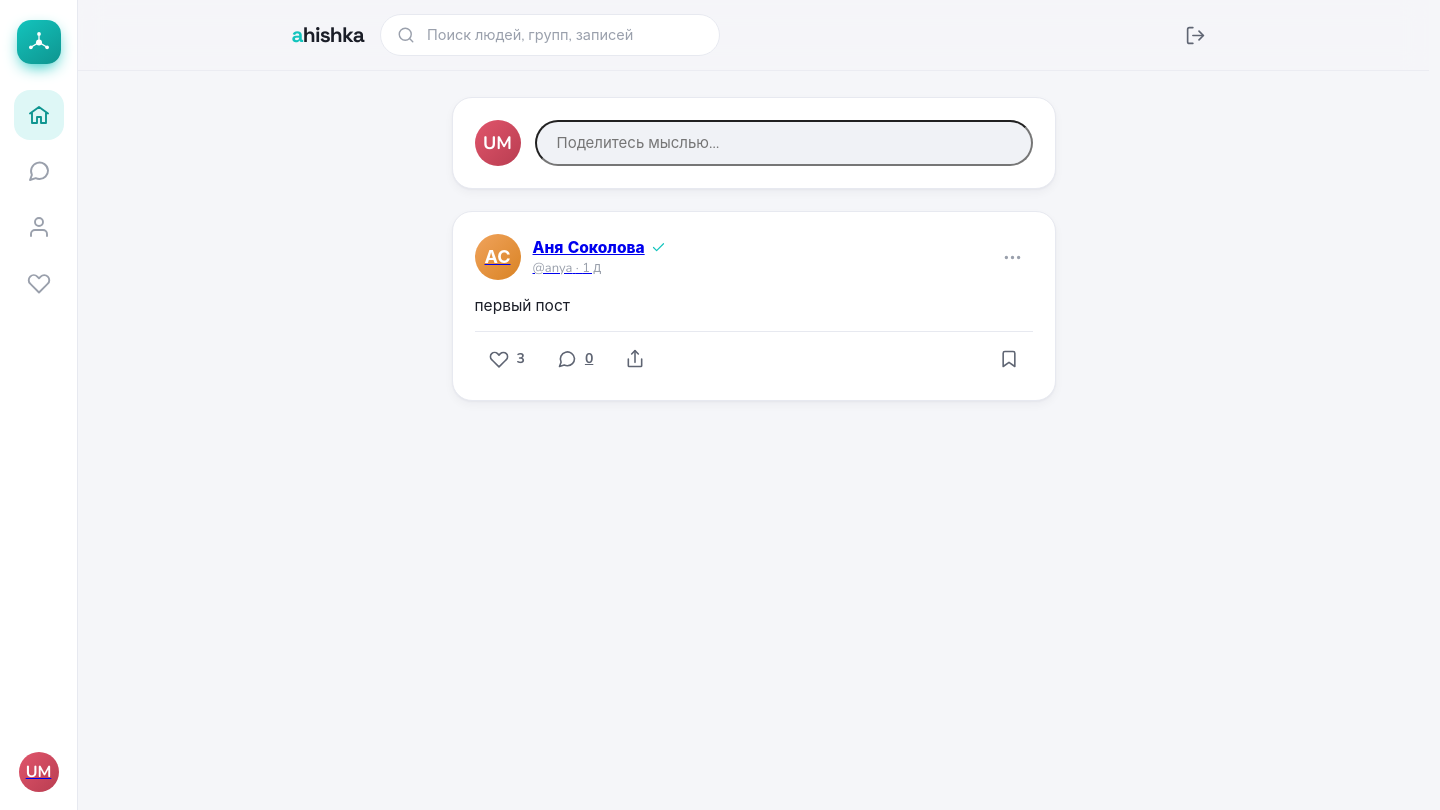
Test: ошибка публикации показана, а текст поста не пропадает
This screenshot has width=1440, height=810.
Click the field with placeholder "Поделитесь мыслью…".
click(784, 143)  # box x1=534 y1=120 x2=1032 y2=166
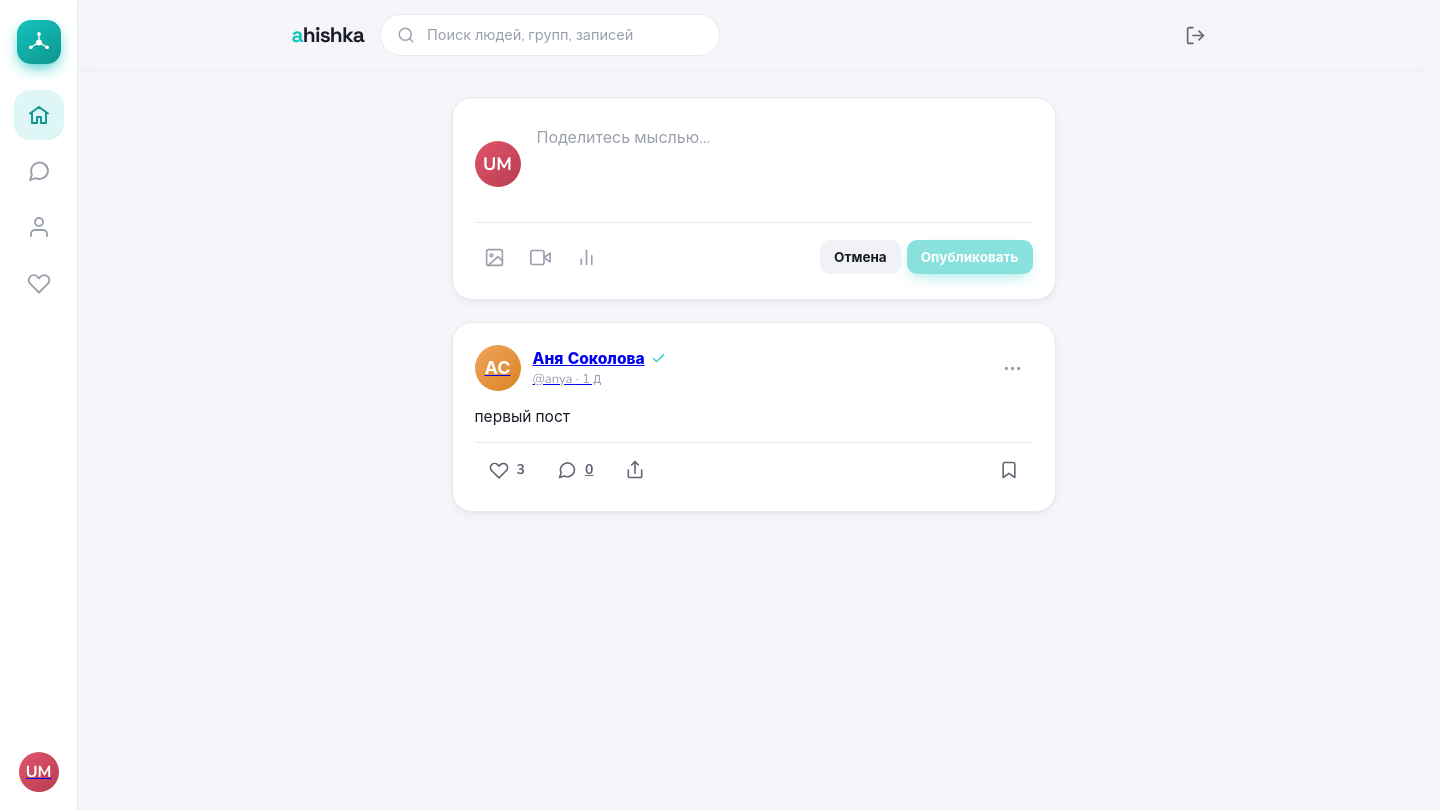
Type "свежая мысль" into the text box.
click(784, 166); type("свежая мысль")  # box x1=534 y1=124 x2=1032 y2=208
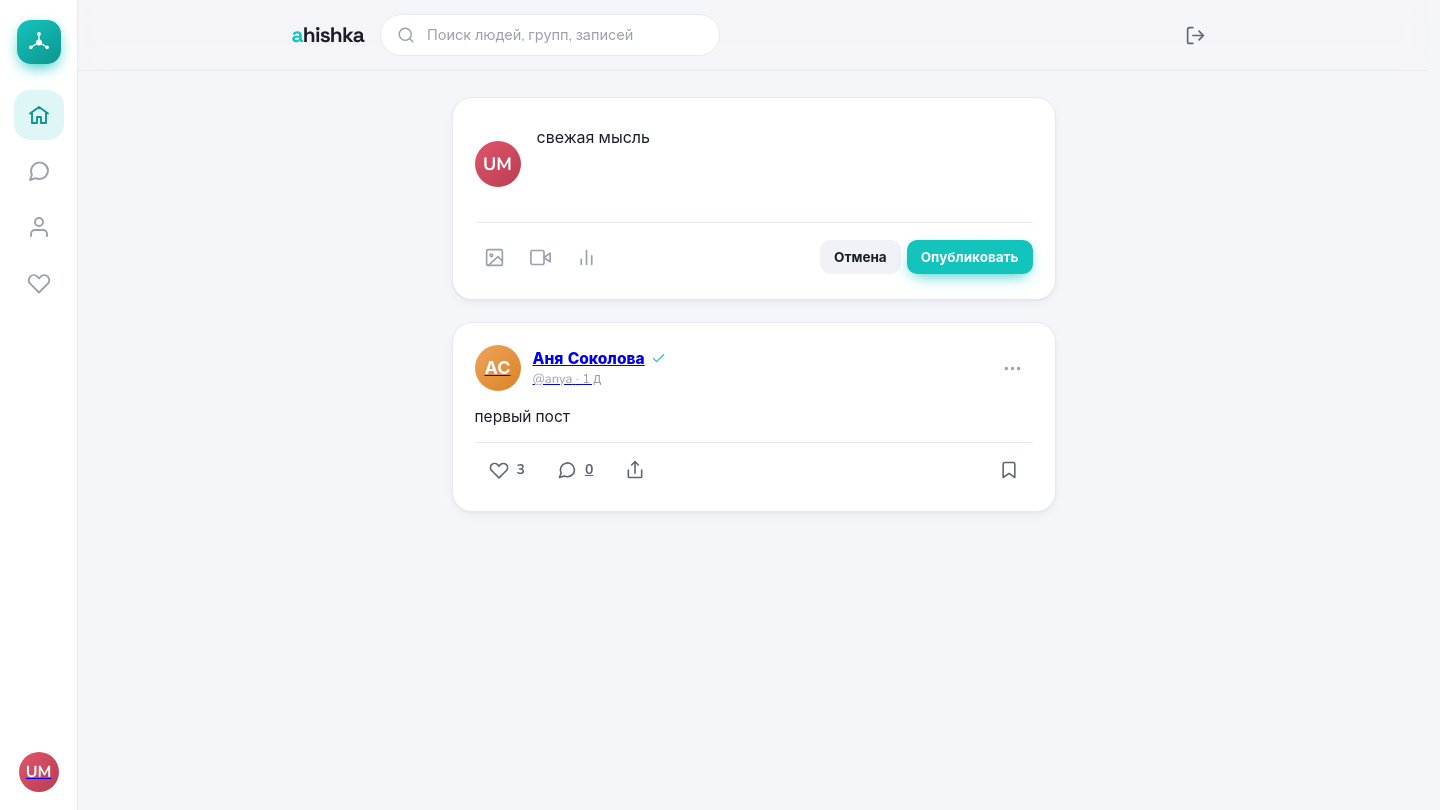
Click the button "Опубликовать".
click(970, 257)  # box x1=907 y1=240 x2=1032 y2=274
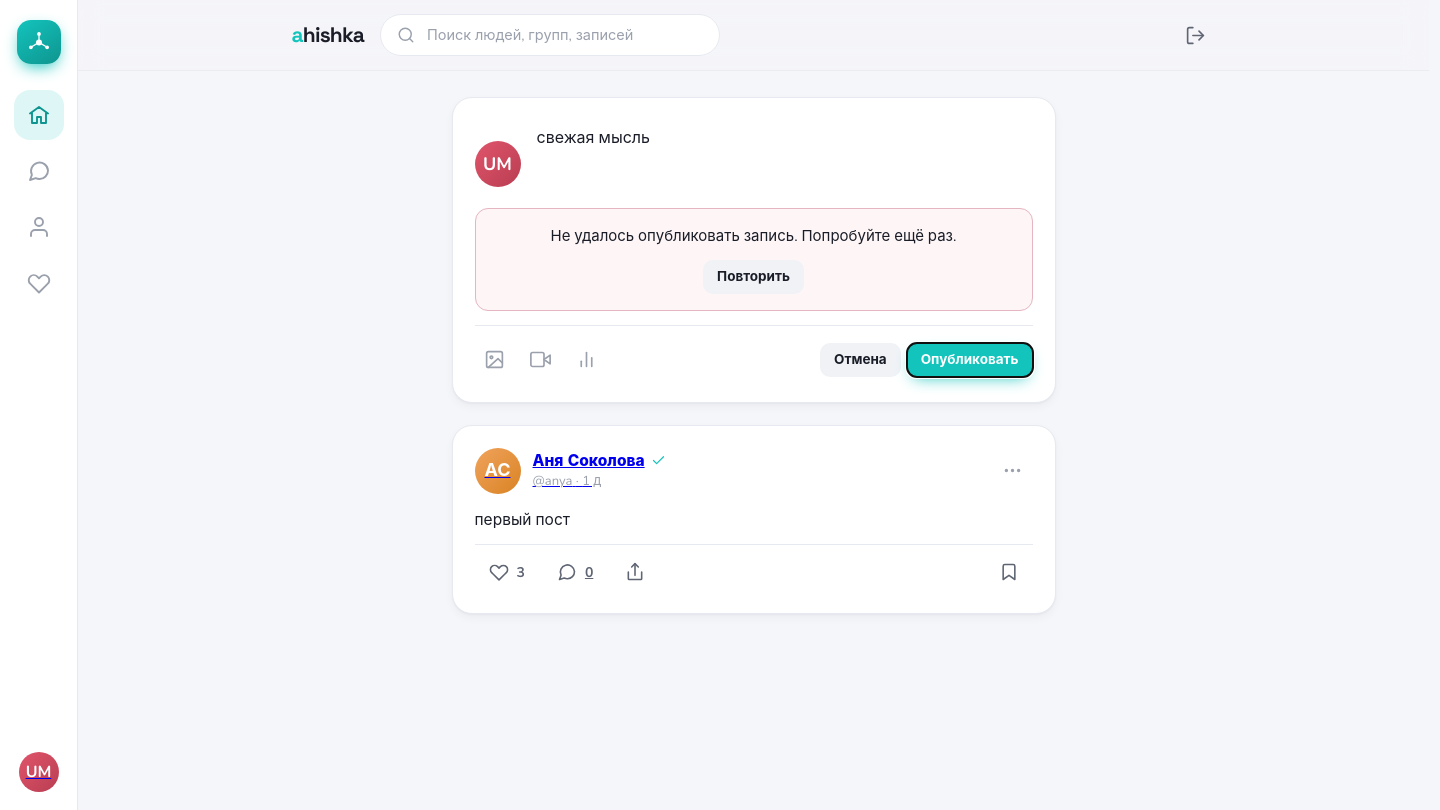
Now the message "Не удалось опубликовать запись. Попробуйте ещё раз. Повторить" is shown, box x1=474 y1=208 x2=1032 y2=310
